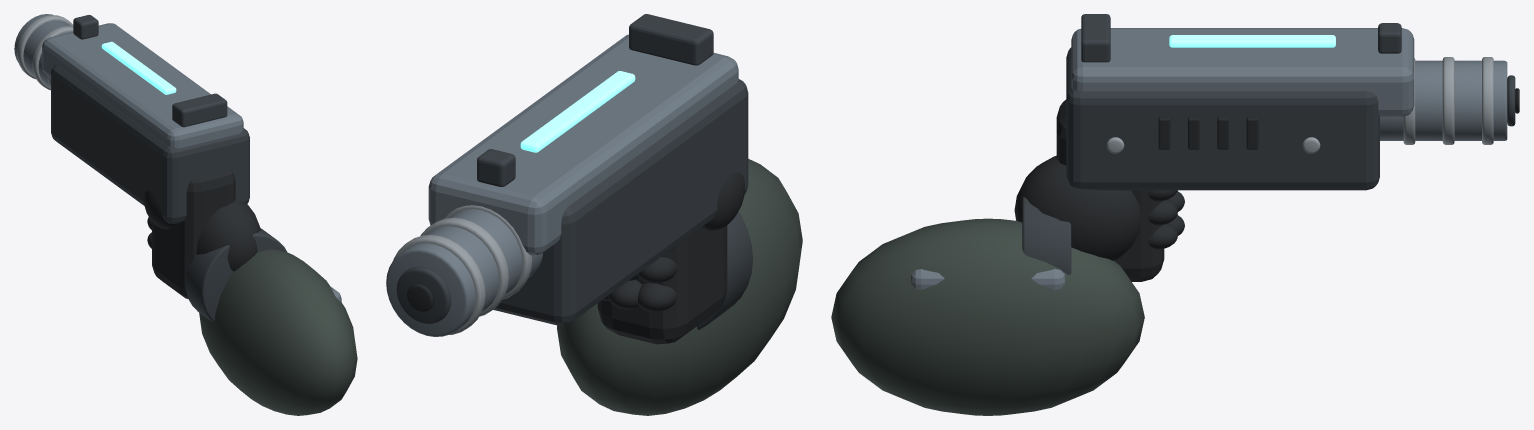
The model's file is sidearm.glb.
3 renders of one model, left to right at view 1: azimuth 30°, elevation 25°; view 2: azimuth 150°, elevation 25°; view 3: azimuth 270°, elevation 25°, orthographic. The views are drawn at different scales.
Visible parts, largest first — view 1: Sleeve, Energy cell, Barrel shroud, Bore interior, Assembly screw, Cell gauge; view 2: Energy cell, Barrel shroud, Sleeve, Bore interior, Assembly screw, Cell gauge; view 3: Sleeve, Energy cell, Barrel shroud, Bore interior, Assembly screw, Cell gauge.
Boxes of the visible parts, x1,y1,x2,y2 form: Sleeve: (199,249,357,415); Energy cell: (51,15,286,322); Barrel shroud: (14,14,341,301); Bore interior: (144,170,261,298); Assembly screw: (17,15,73,90); Cell gauge: (101,41,176,94); Energy cell: (396,14,752,329); Barrel shroud: (386,34,738,336); Sleeve: (557,159,802,415); Bore interior: (407,172,745,344); Assembly screw: (393,205,532,334); Cell gauge: (520,71,635,152); Sleeve: (831,218,1144,415); Energy cell: (1022,14,1515,274); Barrel shroud: (910,28,1507,289); Bore interior: (1014,88,1519,281); Assembly screw: (1106,57,1493,153); Cell gauge: (1169,35,1335,47).
Bounding box in the file's own units: 0.205 × 0.406 × 0.7025.
